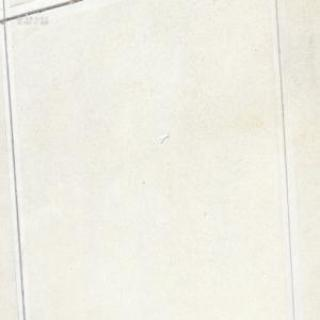Wrenchtrack_idkeyframe: (159, 130, 168, 142)
